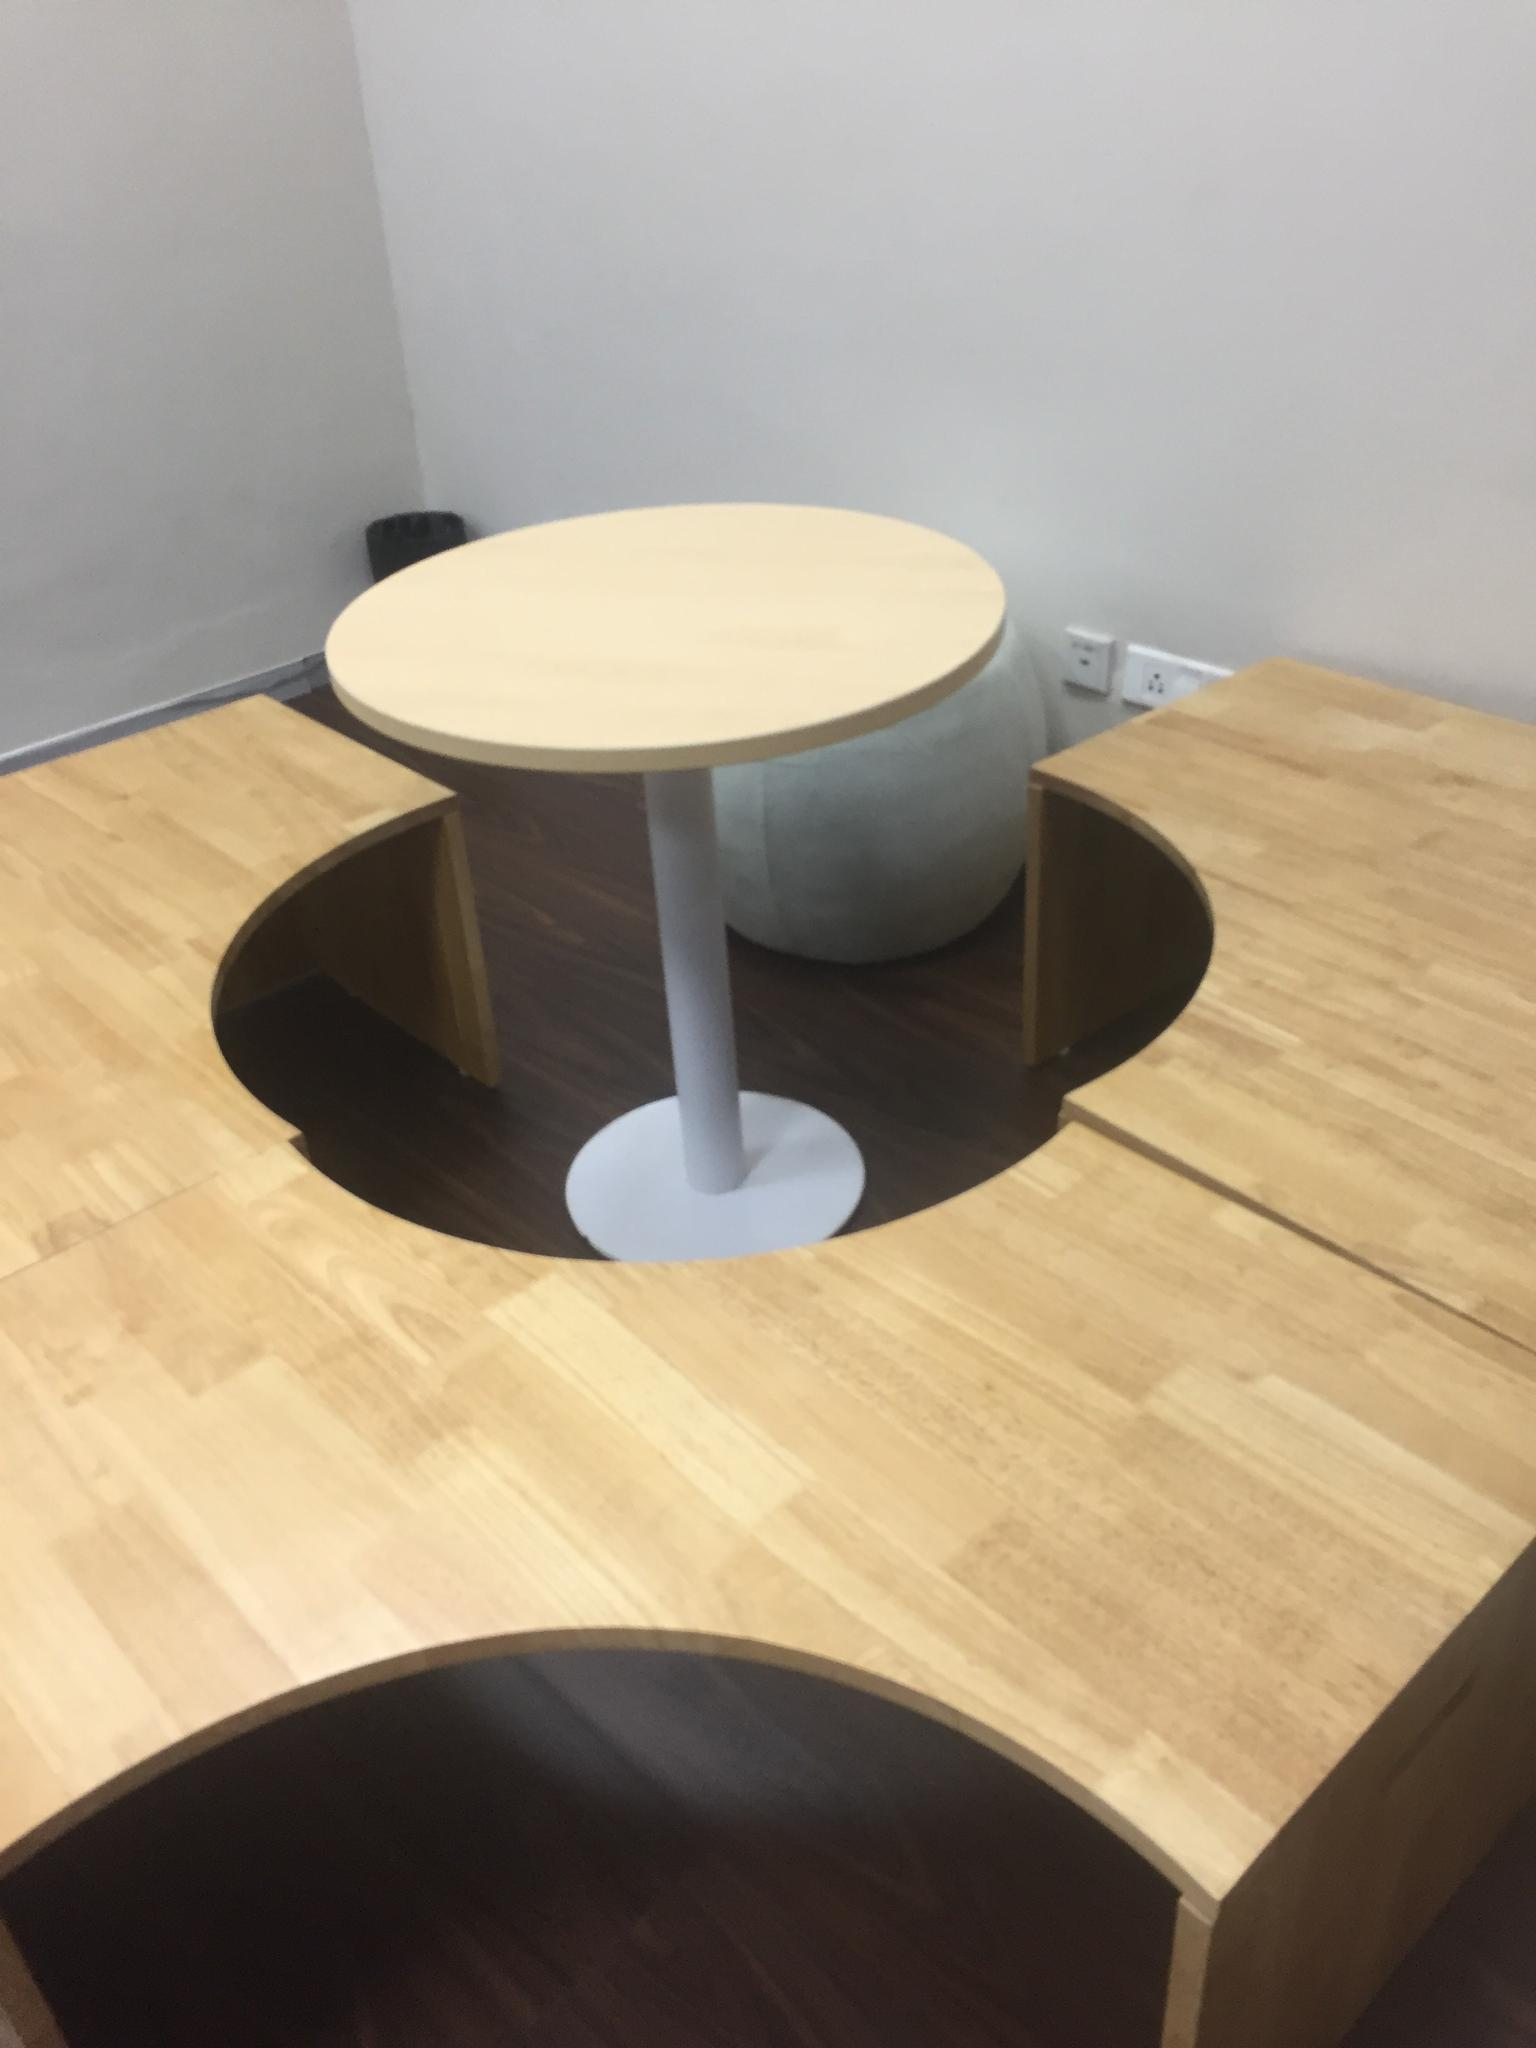chair: (755, 522, 1031, 951)
